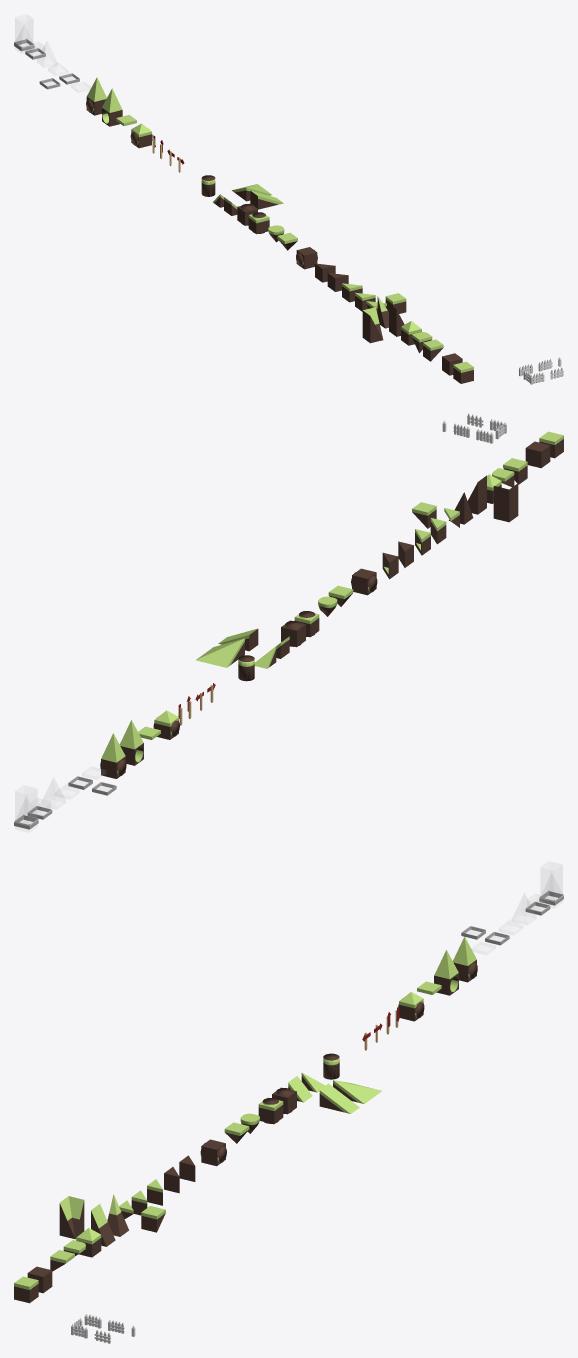
File: Tiles 08.dae
3 views of the same model, one above another, from view 1: azimuth 30°, elevation 25°; view 2: azimuth 150°, elevation 25°; view 3: azimuth 330°, elevation 25° (orthographic). The views are drawn at different scales.
Visible parts, largest first — view 1: 18 Wall Slanted Concave Corner -col, 22 Ground Spike Tall -col, Hole 4 -noimp; view 2: 18 Wall Slanted Concave Corner -col, 19b Ground Slope2 Corner -col, Hole 4 -noimp, 22 Ground Spike Tall -col, 22 Ground Spike Tall Hollow -col, 01b Ground Block -col, 05 Wall Slanted -col; view 3: 18 Wall Slanted Concave Corner -col, 22 Ground Spike Tall -col, 19 Ground Slope2 -col, Hole 4 -noimp, 19b Ground Slope2 Corner -col, 22 Ground Spike Tall Hollow -col, 05 Wall Slanted -col.
Part boxes in pixels (x1=…): 18 Wall Slanted Concave Corner -col: x1=362, y1=307, x2=383, y2=343; 22 Ground Spike Tall -col: x1=102, y1=88, x2=122, y2=126; Hole 4 -noimp: x1=15, y1=15, x2=32, y2=53; 18 Wall Slanted Concave Corner -col: x1=493, y1=483, x2=518, y2=522; 19b Ground Slope2 Corner -col: x1=196, y1=638, x2=244, y2=667; Hole 4 -noimp: x1=15, y1=786, x2=36, y2=831; 22 Ground Spike Tall -col: x1=119, y1=720, x2=143, y2=765; 22 Ground Spike Tall Hollow -col: x1=101, y1=733, x2=125, y2=778; 01b Ground Block -col: x1=525, y1=441, x2=550, y2=468; 05 Wall Slanted -col: x1=467, y1=475, x2=486, y2=514; 18 Wall Slanted Concave Corner -col: x1=59, y1=1196, x2=84, y2=1239; 22 Ground Spike Tall -col: x1=434, y1=950, x2=458, y2=995; 19 Ground Slope2 -col: x1=319, y1=1083, x2=359, y2=1113; Hole 4 -noimp: x1=541, y1=862, x2=562, y2=907; 19b Ground Slope2 Corner -col: x1=333, y1=1080, x2=381, y2=1103; 22 Ground Spike Tall Hollow -col: x1=453, y1=936, x2=476, y2=982; 05 Wall Slanted -col: x1=91, y1=1204, x2=115, y2=1246.
Size of what is drawn, in the model's own units: 19.31 by 121 by 6.81.
